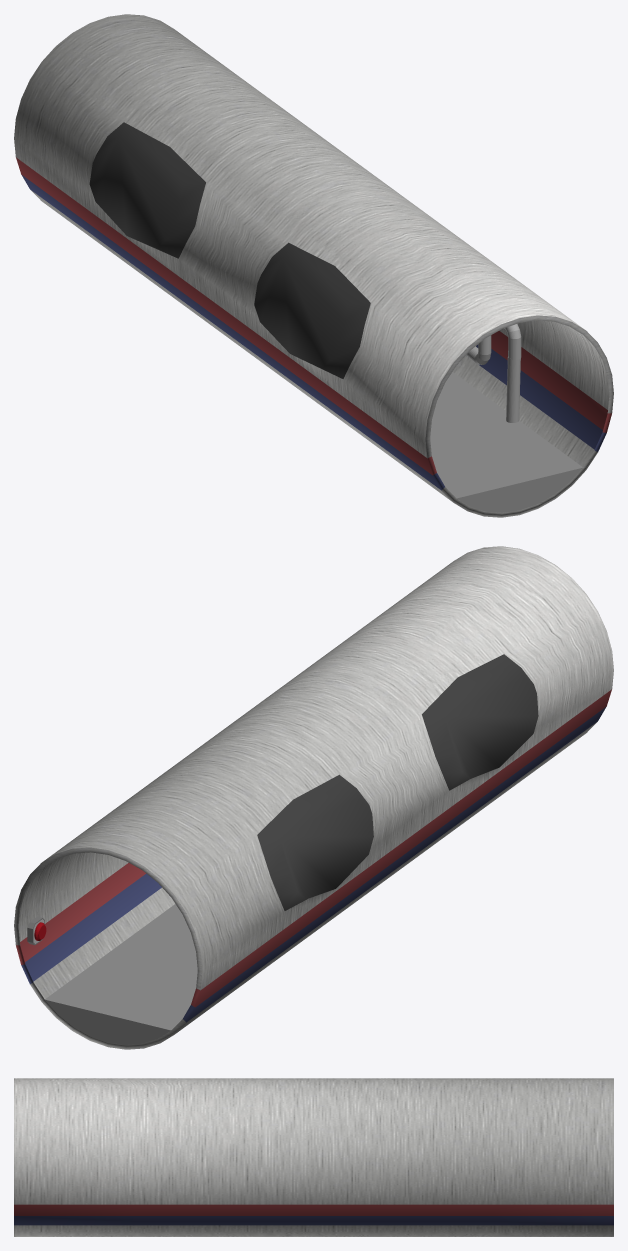
File: Inside Ship WORKING.fbx
The picture shows the model from 3 angles, top to bottom: view 1: azimuth 30°, elevation 25°; view 2: azimuth 150°, elevation 25°; view 3: azimuth 270°, elevation 25°; orthographic projection. The views are drawn at different scales.
Visible parts, largest first — view 1: Tube, Floor, Pipes.009; view 2: Tube, Floor; view 3: Tube.
Boxes of the visible parts, left/top/right/bottom form: Tube: left=14, top=14, right=613, bottom=517; Floor: left=430, top=372, right=582, bottom=512; Pipes.009: left=506, top=356, right=520, bottom=422; Tube: left=14, top=546, right=613, bottom=1049; Floor: left=44, top=904, right=197, bottom=1044; Tube: left=14, top=1078, right=613, bottom=1236.
Bounding box in the file's own units: 818 × 771 × 2920.
Materials: 13 (6 with a texture image).
